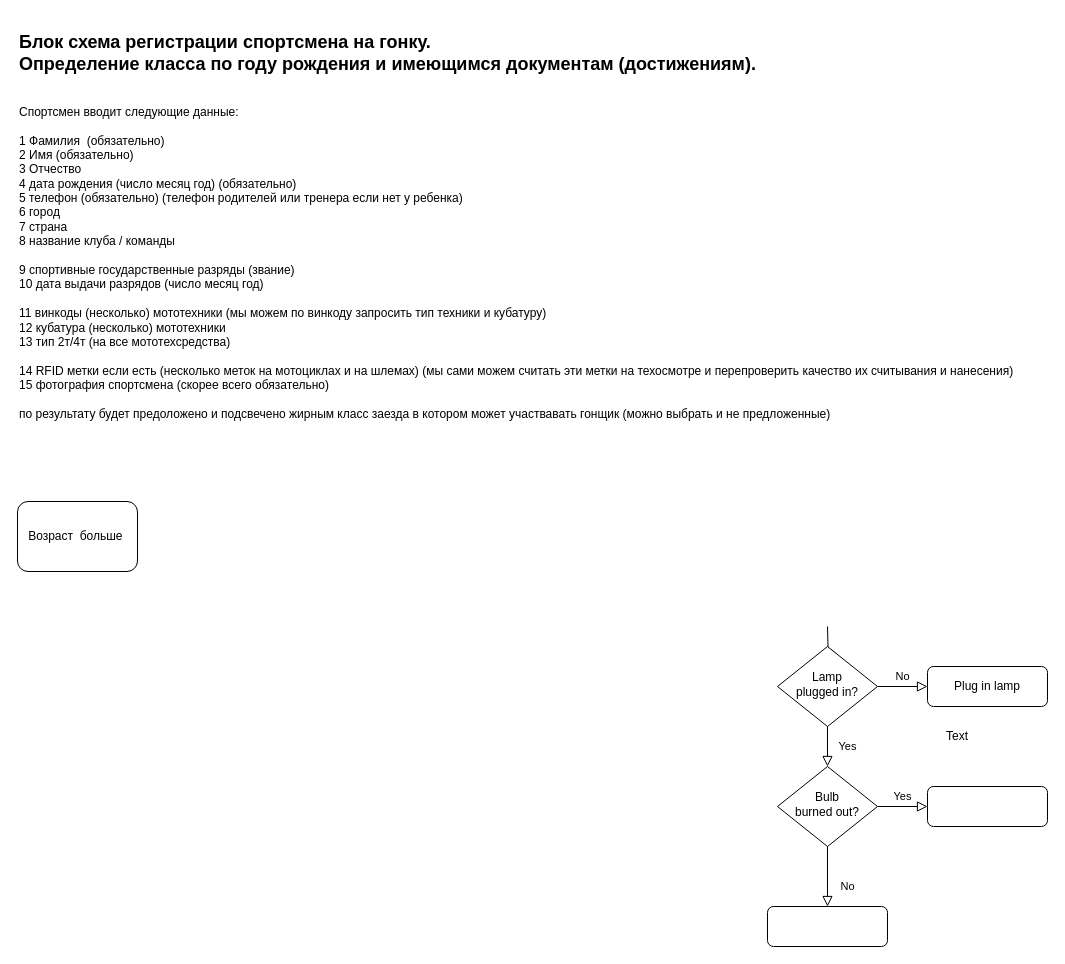
Image size: 1065x964. Some labels were removed from this diagram. Each missing label, with the box of its shape:
Repair Lamp: (766, 906, 888, 946)
Replace Bulb: (926, 786, 1048, 826)
